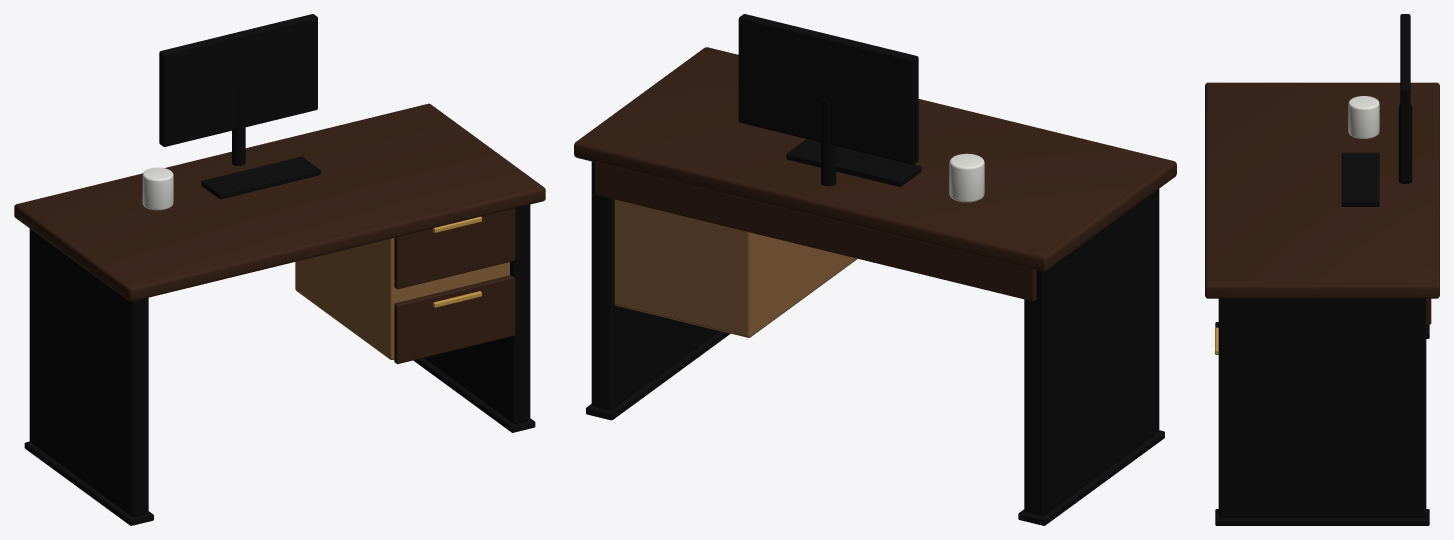
The model's file is modern_desk.obj.
3 views of the same model, side by side, from view 1: azimuth 30°, elevation 25°; view 2: azimuth 150°, elevation 25°; view 3: azimuth 270°, elevation 25° (orthographic). The views are drawn at different scales.
Visible parts, largest first — view 1: top, leg_frame, monitor, drawer_body, leg_frame.001, drawer_front_0, drawer_front_1, keyboard, foot, mug, foot.001, monitor_stand; view 2: top, leg_frame, drawer_body, monitor, back_apron, leg_frame.001, keyboard, foot, mug, foot.001, monitor_stand; view 3: top, leg_frame.001, keyboard, foot.001, monitor, mug, monitor_stand.
Part boxes in pixels (x1,y1,x2,y2): top: (14,103,545,301); leg_frame: (29,228,148,516); monitor: (159,14,317,146); drawer_body: (295,238,509,359); leg_frame.001: (423,204,530,423); drawer_front_0: (394,275,515,364); drawer_front_1: (394,208,515,289); keyboard: (201,156,320,199); foot: (24,441,153,525); mug: (142,167,173,210); foot.001: (413,358,535,432); monitor_stand: (232,89,245,165); top: (574,47,1176,271); leg_frame: (1024,189,1159,515); drawer_body: (614,199,856,337); monitor: (738,14,918,164); back_apron: (595,162,1036,301); leg_frame.001: (591,161,718,410); keyboard: (786,139,921,186); foot: (1018,430,1164,525); mug: (949,153,984,202); foot.001: (586,331,730,420); monitor_stand: (821,99,836,186); top: (1205,82,1439,298); leg_frame.001: (1218,298,1426,517); keyboard: (1341,152,1379,206); foot.001: (1215,509,1429,525); monitor: (1400,14,1410,182); mug: (1348,96,1379,138); monitor_stand: (1398,104,1412,184).
Size of the model in its own units: 1.4 by 1.2 by 0.68.
